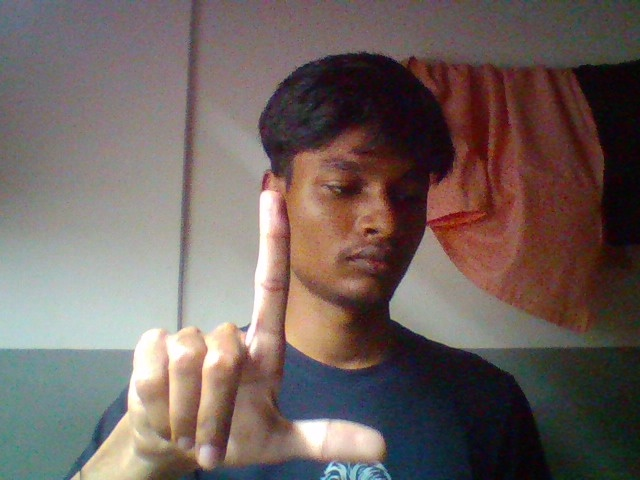L: (96, 184, 437, 480)
